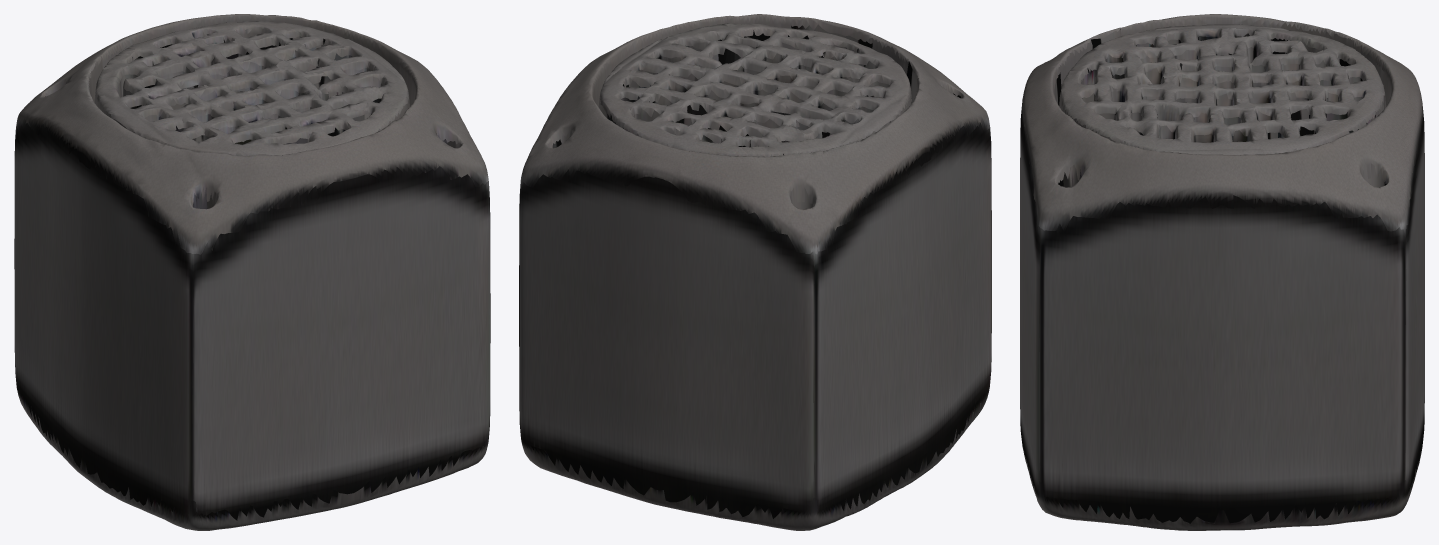
File: street-drain.glb
3 renders of one model, left to right at view 1: azimuth 30°, elevation 25°; view 2: azimuth 150°, elevation 25°; view 3: azimuth 270°, elevation 25°, orthographic. The views are drawn at different scales.
Parts seen in each view (by area): view 1: tmprp9n5jnv.ply; view 2: tmprp9n5jnv.ply; view 3: tmprp9n5jnv.ply.
Boxes of the visible parts, x1=… form: tmprp9n5jnv.ply: x1=14, y1=14, x2=490, y2=530; tmprp9n5jnv.ply: x1=519, y1=14, x2=991, y2=530; tmprp9n5jnv.ply: x1=1020, y1=14, x2=1424, y2=530.
Size of the model in its own units: 1 by 1 by 1.
1 material, 1 textured.
